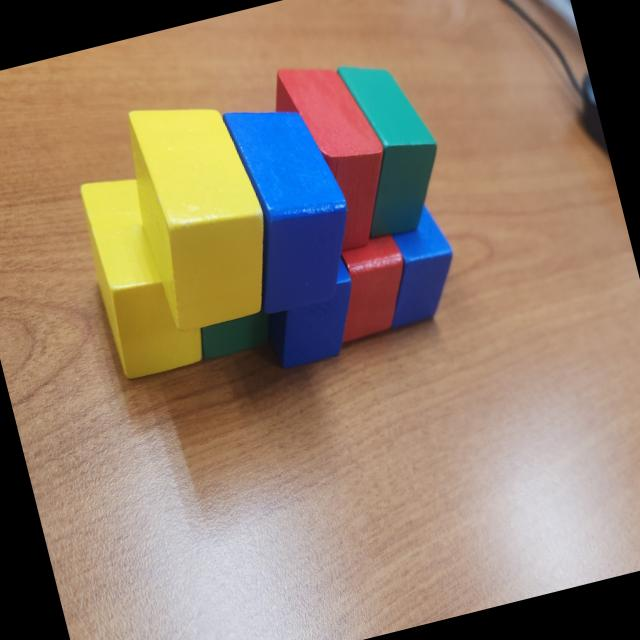blue: (214, 88, 368, 315), (255, 250, 368, 372), (363, 198, 467, 330)
green: (327, 48, 456, 242), (195, 309, 278, 363)
red: (264, 48, 405, 260), (318, 232, 419, 344)
yellow: (115, 84, 286, 336), (74, 164, 210, 382)
